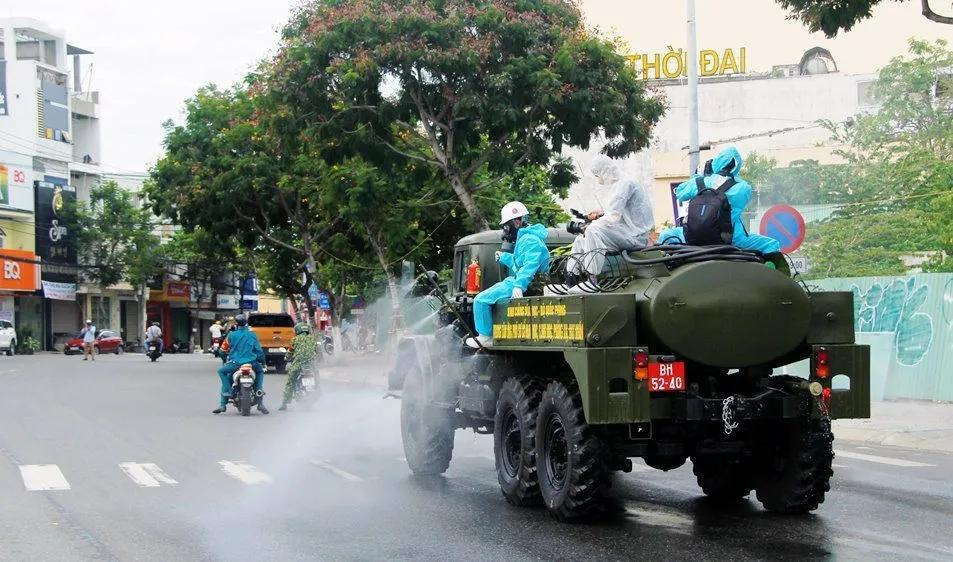plate: (643, 362, 689, 396)
